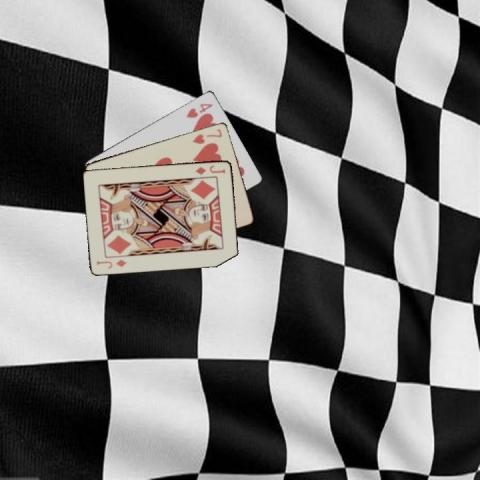4h: (183, 100, 214, 119)
7h: (190, 126, 224, 146)
Jd: (192, 162, 226, 176), (94, 256, 127, 269)
